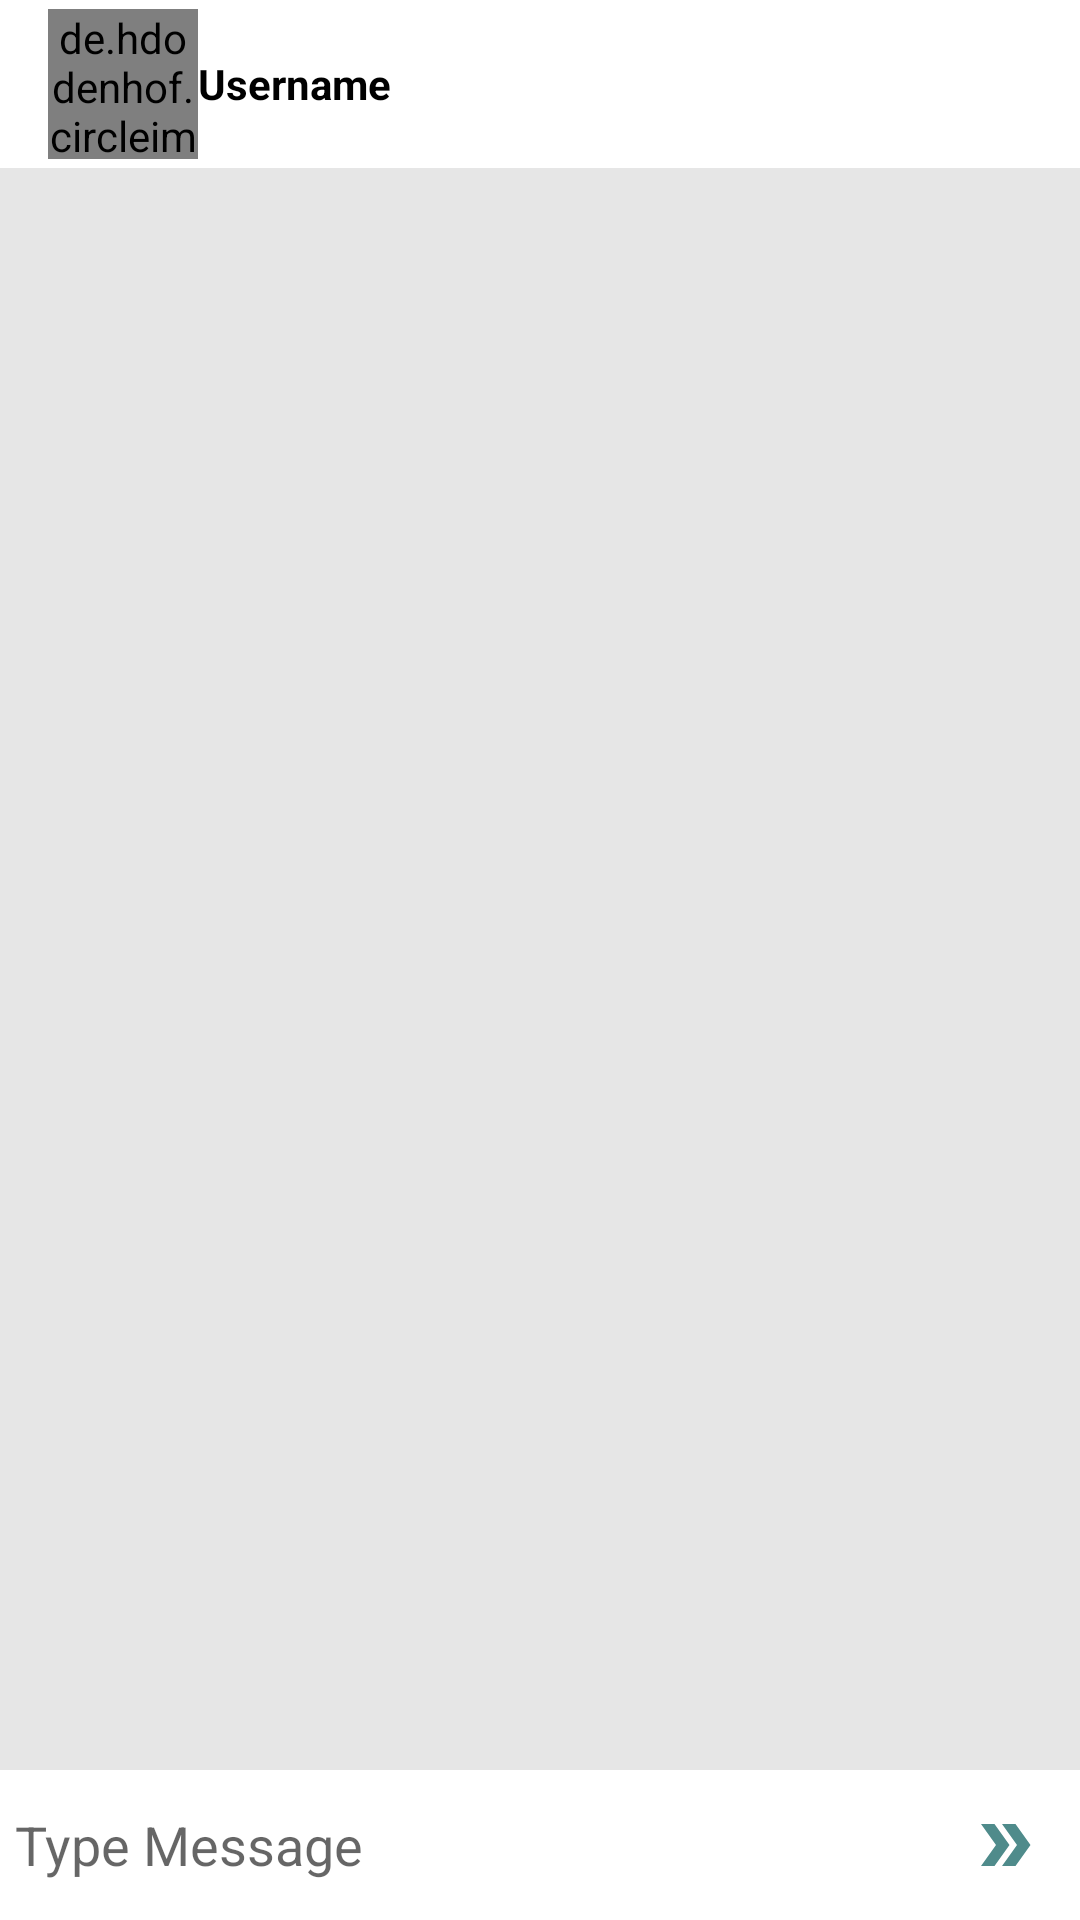

Point at icon controls on the screen. Image size 1080×1920, points as (x=x, y=y).
send: (x=1006, y=1845)
